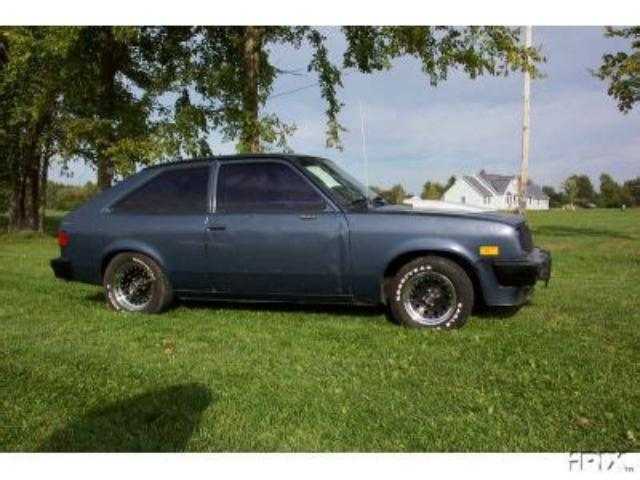chevette-1983: (51, 154, 550, 328)
